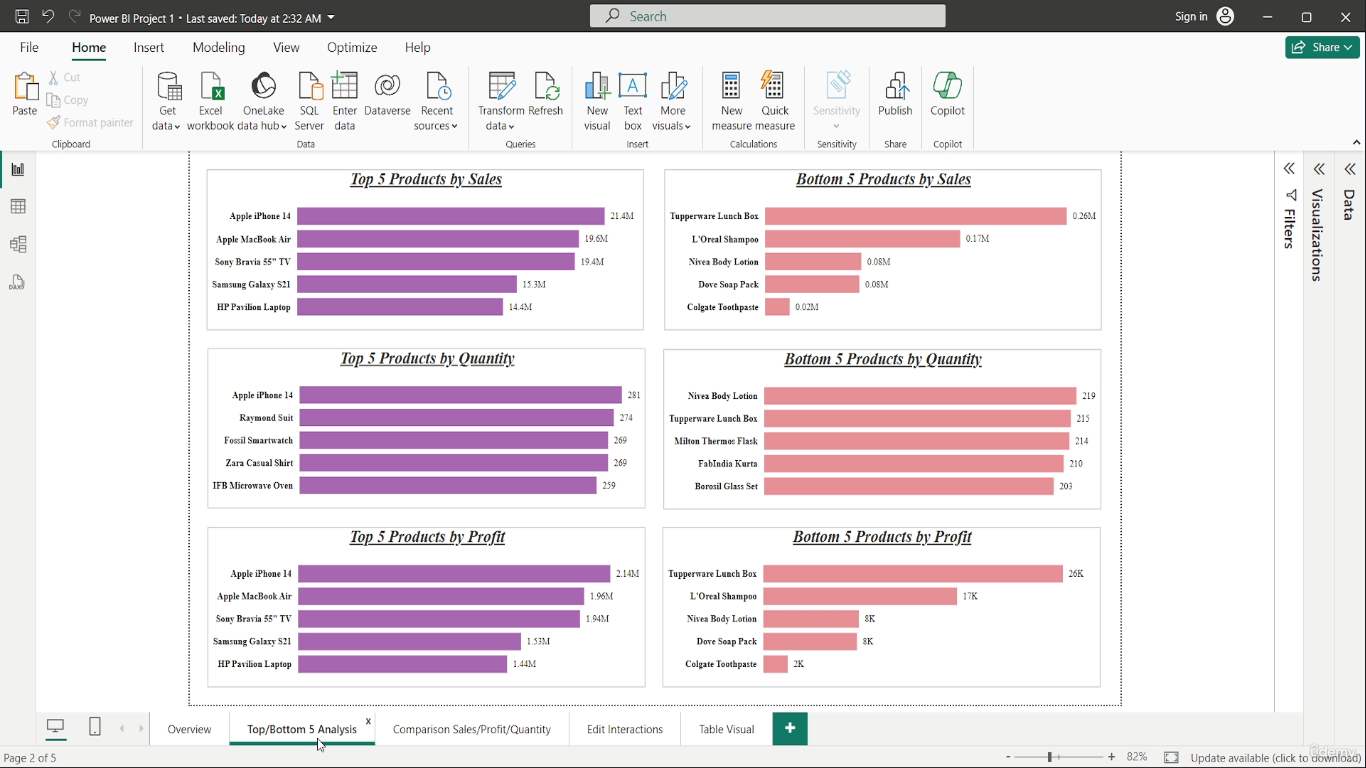

The page's visual inventory and layout, read from the dashboard file:
{"tool":"powerbi","page":{"name":"TOP/BOTTOM ANALYSIS","canvas":[1280,720],"ordinal":1},"visuals":[{"type":"barChart","title":"Top 5 products by sales","fields":{"Category":["Dim Product.Product Name"],"Y":["Sum(Fact table.Net Sales)"]},"box":[10,0,620,222],"z":0},{"type":"barChart","title":"Bottom  5 products by sales","fields":{"Category":["Dim Product.Product Name"],"Y":["Sum(Fact table.Net Sales)"]},"box":[640,0,628,222],"z":1000},{"type":"barChart","title":"Top 5 products by Quantity","fields":{"Category":["Dim Product.Product Name"],"Y":["Sum(Fact table.Units Sold)"]},"box":[10,236,630,232],"z":2000},{"type":"barChart","title":"Bottom 5 products by Quantity","fields":{"Category":["Dim Product.Product Name"],"Y":["Sum(Fact table.Units Sold)"]},"box":[650,222,630,246],"z":3000},{"type":"barChart","title":"Top 5 products by profit","fields":{"Category":["Dim Product.Product Name"],"Y":["Sum(Fact table.profit)"]},"box":[20,468,630,232],"z":4000},{"type":"barChart","title":"Top 5 products by Quantity","fields":{"Category":["Dim Product.Product Name"],"Y":["Sum(Fact table.Units Sold)"]},"box":[20,246,630,232],"z":5000},{"type":"barChart","title":"Bottom 5 products by profits","fields":{"Category":["Dim Product.Product Name"],"Y":["Sum(Fact table.profit)"]},"box":[650,468,630,232],"z":6000}]}

Visuals, with their boxes on the page's 1280x720 design canvas (x1, y1, x2, y2). These are canvas units, not pixel positions in the 1366x768 screenshot, which may show the page scaled, cropped or inside an application window:
"Top 5 products by sales" barChart: {"left": 10, "top": 0, "right": 630, "bottom": 222}
"Bottom  5 products by sales" barChart: {"left": 640, "top": 0, "right": 1268, "bottom": 222}
"Top 5 products by Quantity" barChart: {"left": 10, "top": 236, "right": 640, "bottom": 468}
"Bottom 5 products by Quantity" barChart: {"left": 650, "top": 222, "right": 1280, "bottom": 468}
"Top 5 products by profit" barChart: {"left": 20, "top": 468, "right": 650, "bottom": 700}
"Top 5 products by Quantity" barChart: {"left": 20, "top": 246, "right": 650, "bottom": 478}
"Bottom 5 products by profits" barChart: {"left": 650, "top": 468, "right": 1280, "bottom": 700}
